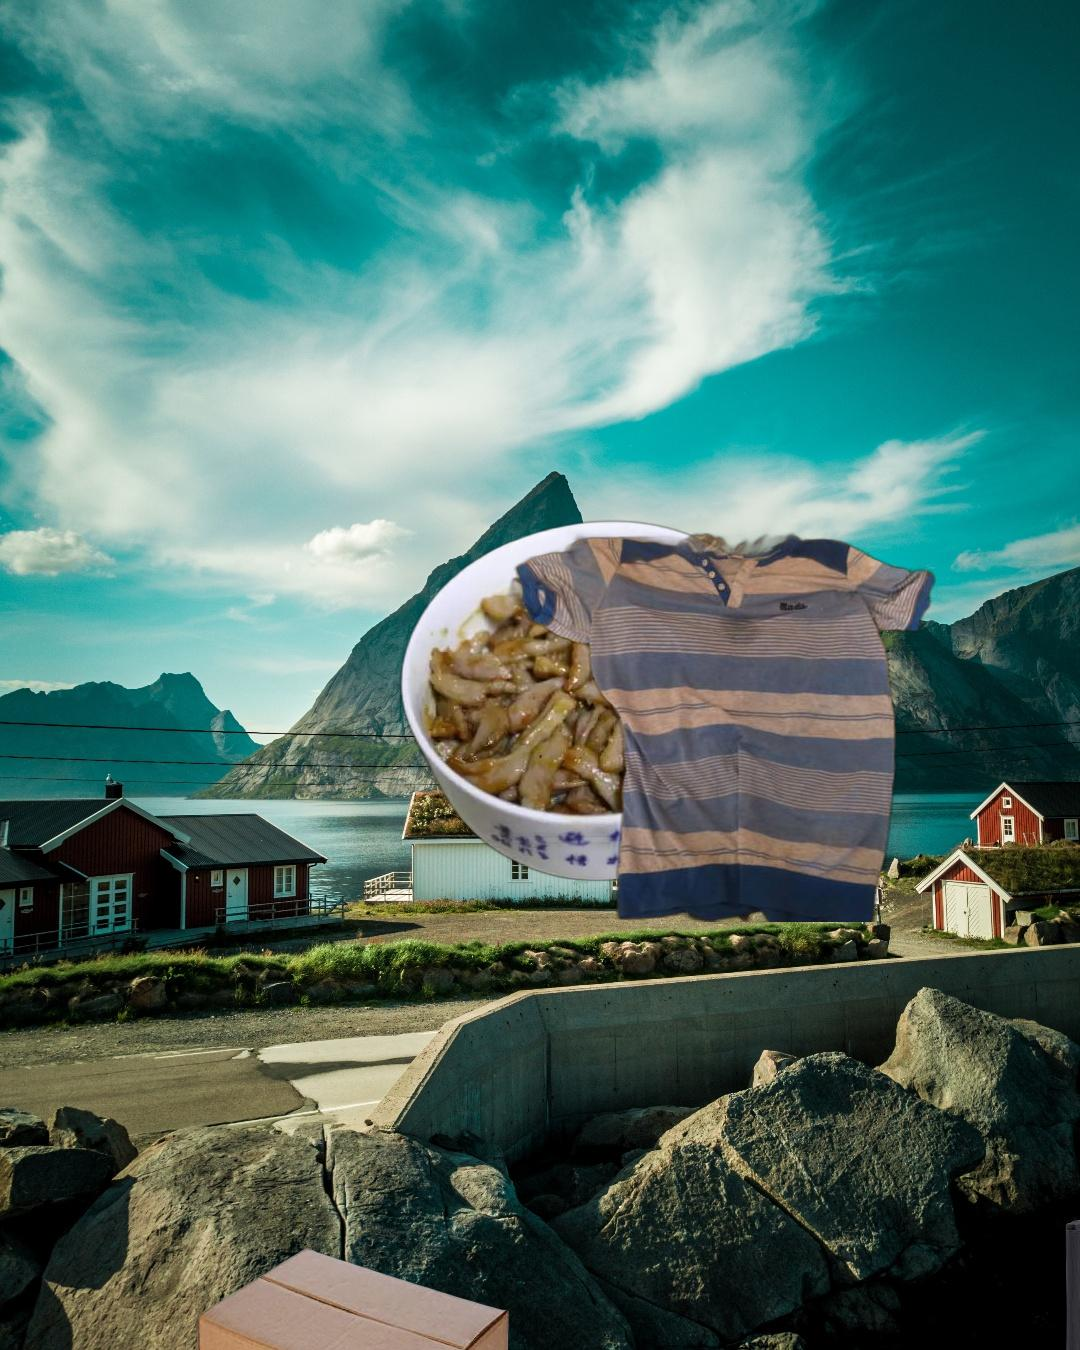battery: (1063, 1205, 1080, 1350)
biological: (396, 517, 798, 887)
clothes: (506, 522, 942, 922)
trashbox-cardboard: (195, 1246, 510, 1350)
